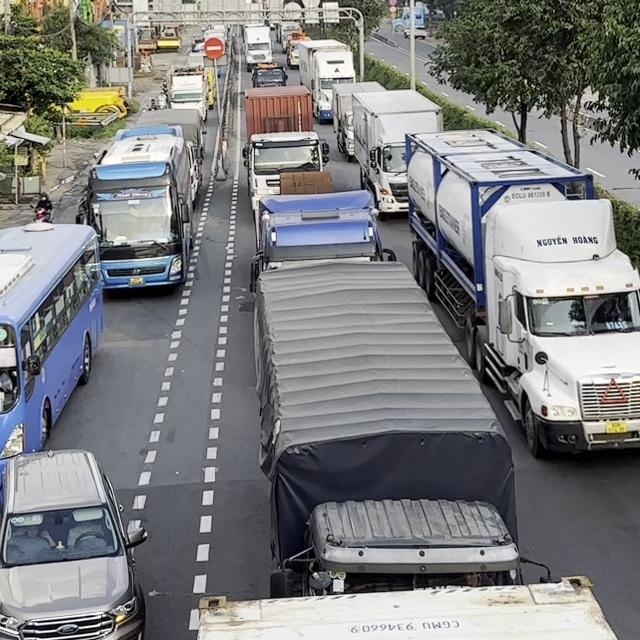bus: (0, 220, 104, 526), (75, 132, 196, 292)
car: (0, 447, 148, 639)
motorcycle: (32, 192, 53, 223)
truck: (251, 257, 521, 597), (403, 127, 639, 459), (194, 574, 621, 639), (249, 188, 396, 293), (351, 88, 444, 219), (241, 85, 330, 217), (132, 107, 206, 205), (298, 38, 356, 123), (330, 80, 388, 162), (163, 62, 209, 122), (242, 23, 273, 72), (250, 62, 288, 87)
